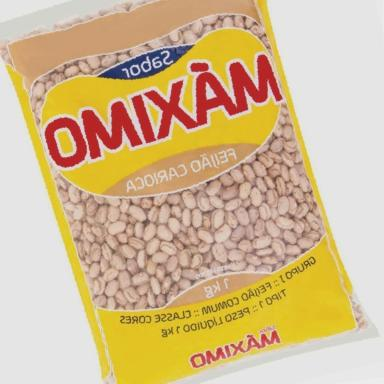beans package: (0, 0, 367, 383)
